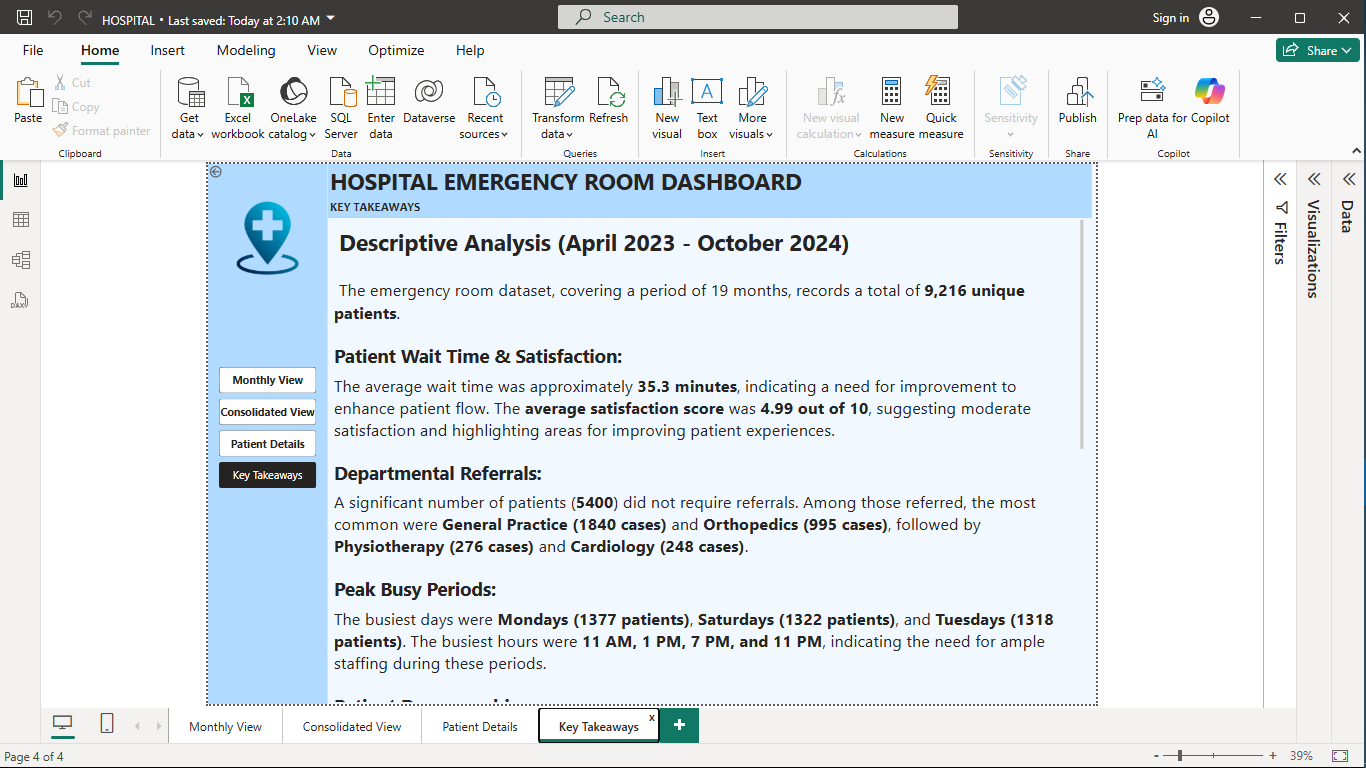

The dashboard page shown, as its layout file describes it:
{"tool":"powerbi","page":{"name":"Key Takeaways","canvas":[2300,1400],"ordinal":3},"visuals":[{"type":"shape","box":[0,0,310,1400],"z":0},{"type":"shape","box":[310,0,1980,140],"z":1000},{"type":"textbox","box":[310,0,1247.5,100],"z":2000},{"type":"image","box":[55,62.5,200,260],"z":3000},{"type":"textbox","box":[310,70,320,92.5],"z":4000},{"type":"actionButton","box":[0,0,100,40],"z":5000},{"type":"textbox","box":[322.5,140,1952.5,1260],"z":6000},{"type":"pageNavigator","box":[27.5,525,252.5,315],"z":7000}]}

Visuals, with their boxes on the page's 2300x1400 design canvas (x1, y1, x2, y2). These are canvas units, not pixel positions in the 1366x768 screenshot, which may show the page scaled, cropped or inside an application window:
shape: locate(0, 0, 310, 1400)
shape: locate(310, 0, 2290, 140)
textbox: locate(310, 0, 1558, 100)
image: locate(55, 62, 255, 322)
textbox: locate(310, 70, 630, 162)
actionButton: locate(0, 0, 100, 40)
textbox: locate(322, 140, 2275, 1400)
pageNavigator: locate(28, 525, 280, 840)
